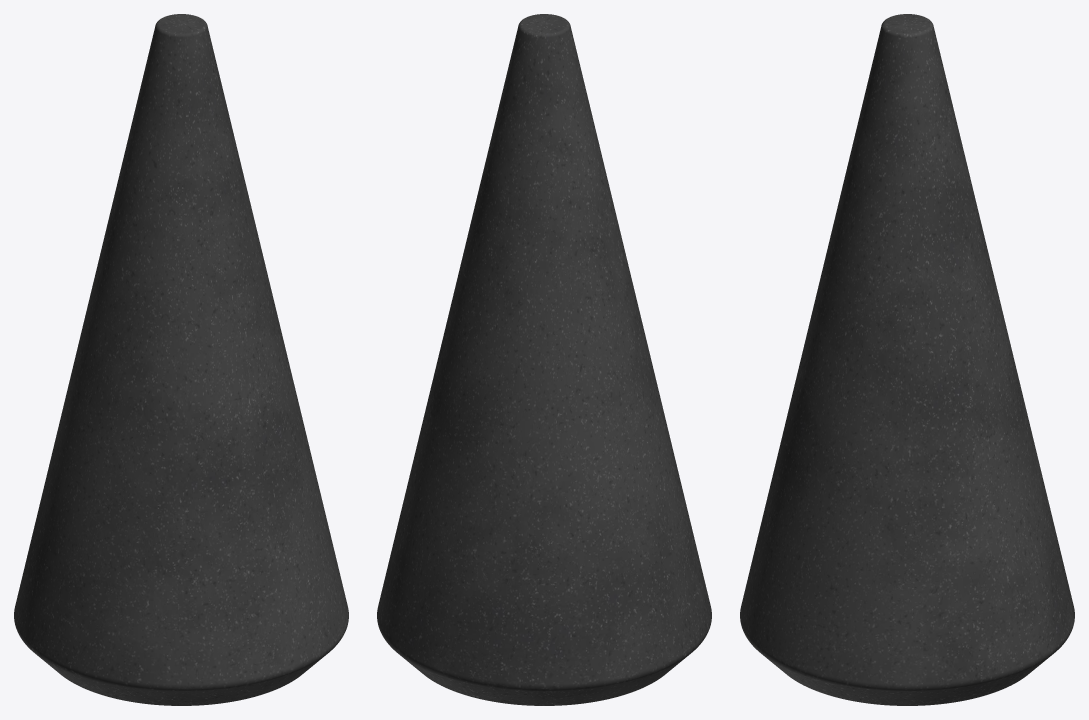
The model's file is pawn-black-hd.glb.
3 views of the same model, side by side, from view 1: azimuth 30°, elevation 25°; view 2: azimuth 150°, elevation 25°; view 3: azimuth 270°, elevation 25° (orthographic).
Parts seen in each view (by area): view 1: 01_pesec_cerna; view 2: 01_pesec_cerna; view 3: 01_pesec_cerna.
Part boxes in pixels (x1,y1,x2,y2): 01_pesec_cerna: (14, 14, 348, 705); 01_pesec_cerna: (377, 14, 711, 705); 01_pesec_cerna: (740, 14, 1074, 705).
Size of the model in its own units: 0.6406 by 1.32 by 0.6406.
1 material, 1 textured.
